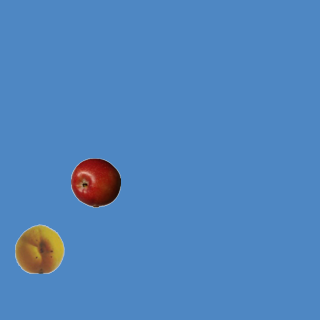Apple Braeburn: (70, 157, 120, 207)
Peach 2: (14, 223, 64, 273)
